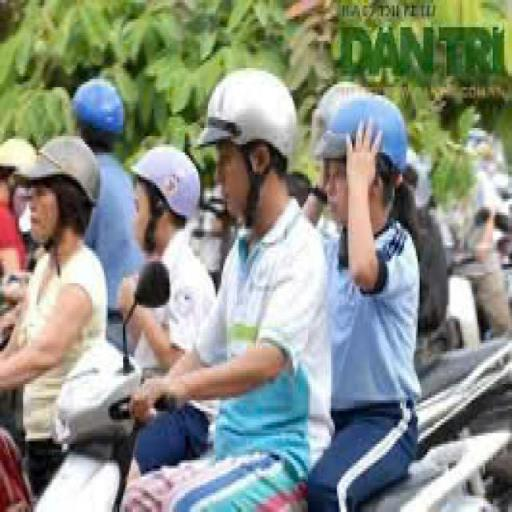with helmet: (202, 69, 298, 165), (319, 96, 410, 183), (19, 132, 105, 206), (131, 142, 202, 219), (67, 72, 128, 138), (0, 128, 38, 180)
